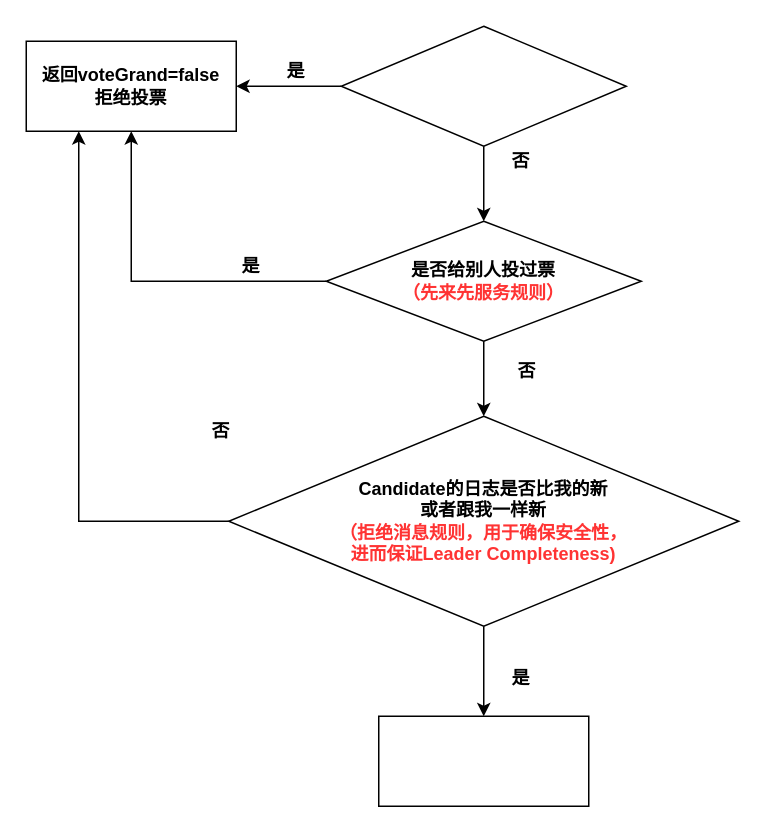
Some shapes in this 765 by 833 pixel diagram are drawn without their labels. Here are the shapes that lost their labels. From the top down, the box of each, then its label:
(340, 25, 626, 146): Candidate的term值是否 比自己的任期值小
(377, 715, 589, 806): 投票给Candidate 返回voteGrand=true
